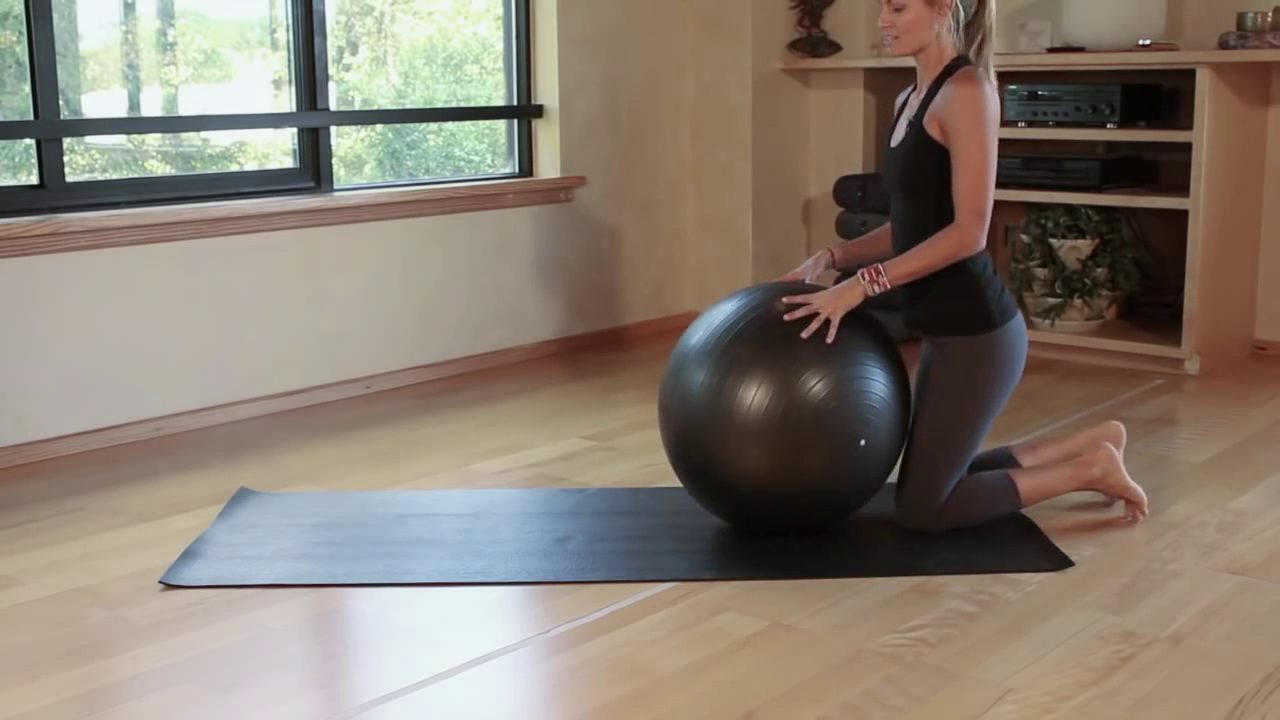yogaball: (647, 280, 912, 540)
